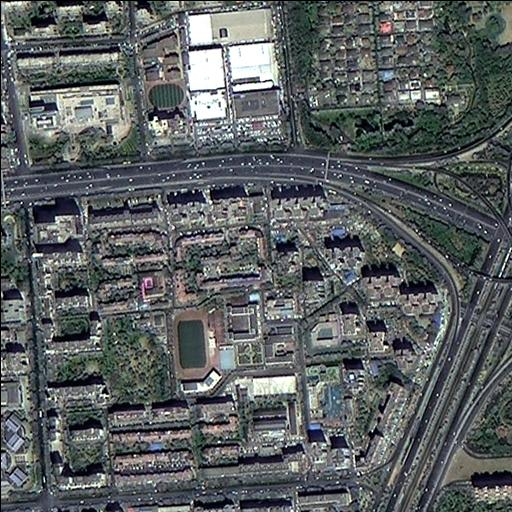school: (173, 288, 296, 392), (138, 25, 187, 116), (302, 306, 342, 361)
